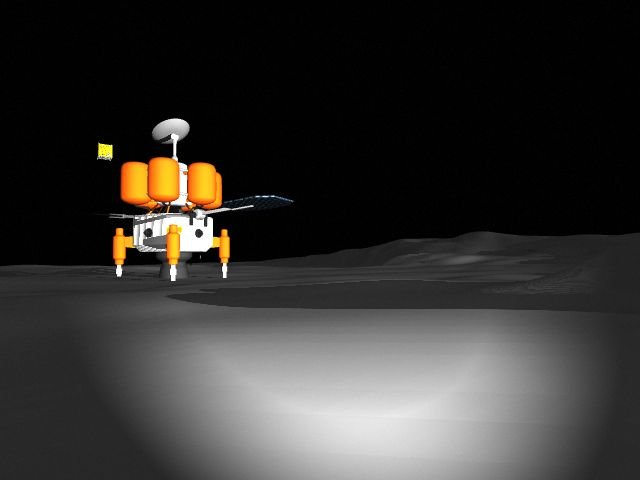cubesat: (87, 140, 116, 162)
